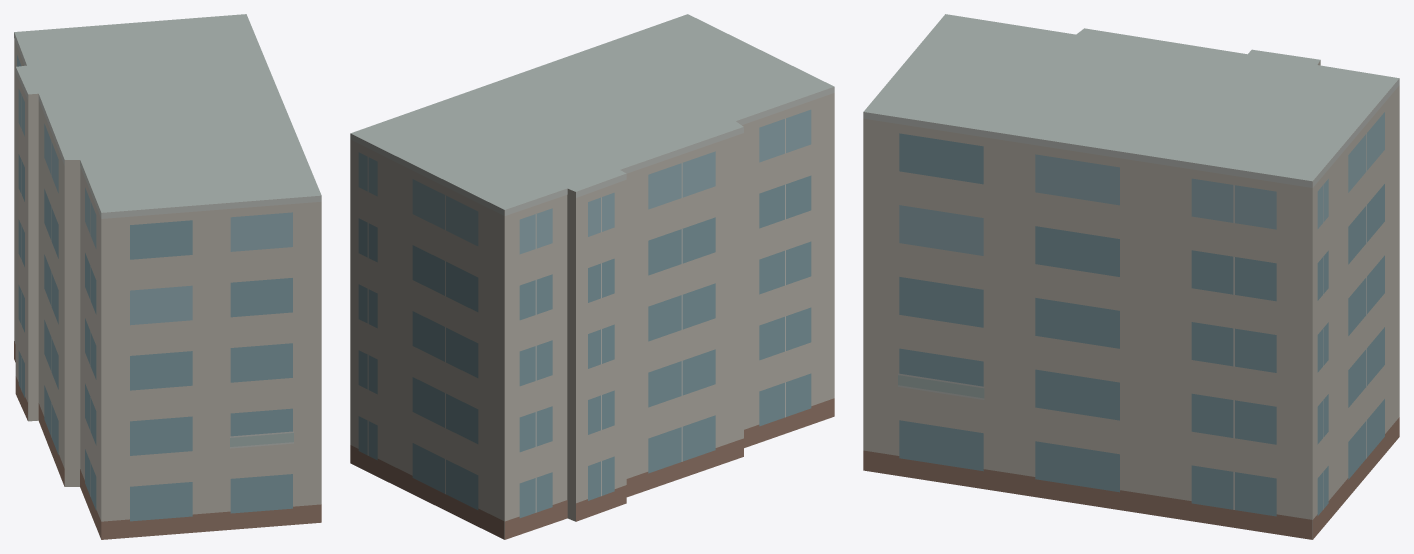
Rendered from survey-upis-32991976.glb.
3 views of the same model, side by side, from view 1: azimuth 30°, elevation 25°; view 2: azimuth 150°, elevation 25°; view 3: azimuth 270°, elevation 25° (orthographic). The views are drawn at different scales.
Visible parts, largest first — view 1: survey-upis-32991976.tmp; view 2: survey-upis-32991976.tmp; view 3: survey-upis-32991976.tmp.
Part boxes in pixels (left/top/right/bottom): survey-upis-32991976.tmp: left=14, top=14, right=321, bottom=539; survey-upis-32991976.tmp: left=350, top=14, right=834, bottom=539; survey-upis-32991976.tmp: left=863, top=14, right=1399, bottom=539.
Bounding box in the file's own units: 13.07 × 13.05 × 17.7.
